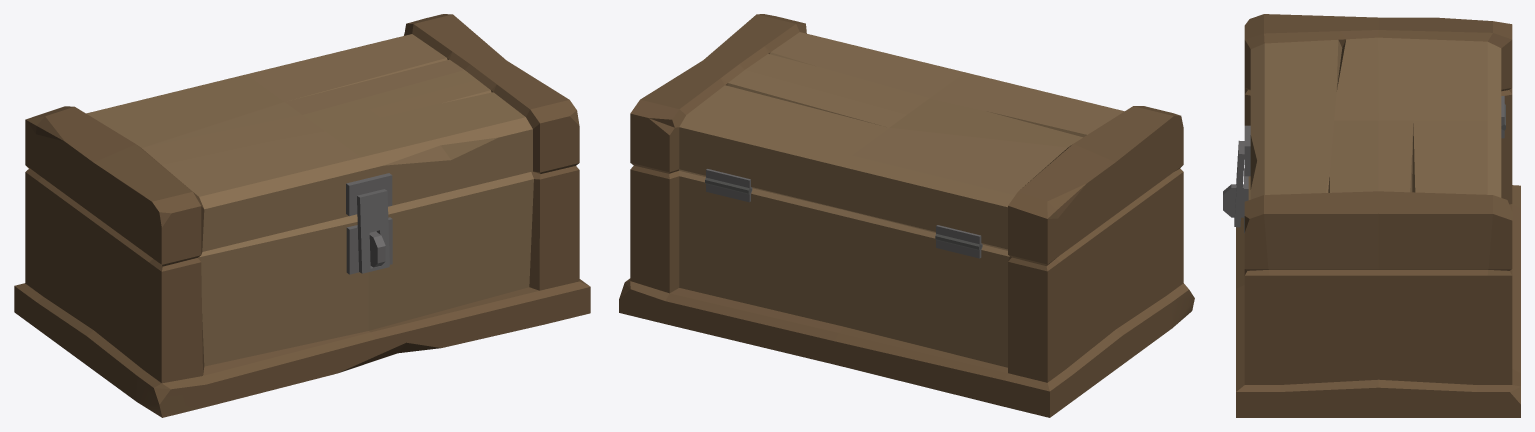
File: chest.glb
3 renders of one model, left to right at view 1: azimuth 30°, elevation 25°; view 2: azimuth 150°, elevation 25°; view 3: azimuth 270°, elevation 25°, orthographic.
Visible parts, largest first — view 1: SM_Prop_Chest_01, SM_Prop_Chest_01_Lid, SM_Prop_Chest_01_Latch; view 2: SM_Prop_Chest_01, SM_Prop_Chest_01_Lid; view 3: SM_Prop_Chest_01_Lid, SM_Prop_Chest_01, SM_Prop_Chest_01_Latch.
Boxes of the visible parts, bbox=[...] form: SM_Prop_Chest_01: bbox=[14, 166, 590, 417]; SM_Prop_Chest_01_Lid: bbox=[25, 14, 579, 266]; SM_Prop_Chest_01_Latch: bbox=[357, 189, 389, 273]; SM_Prop_Chest_01: bbox=[619, 165, 1194, 417]; SM_Prop_Chest_01_Lid: bbox=[630, 14, 1183, 266]; SM_Prop_Chest_01_Lid: bbox=[1244, 14, 1512, 270]; SM_Prop_Chest_01: bbox=[1223, 88, 1520, 417]; SM_Prop_Chest_01_Latch: bbox=[1234, 140, 1244, 227].
Bounding box in the file's own units: 2.38 × 1.1 × 1.45.
Materials: 1 (1 with a texture image).
